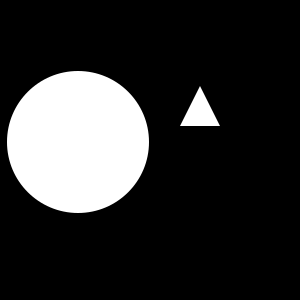rectangle: (7, 71, 149, 213)
triangle: (180, 86, 220, 126)
